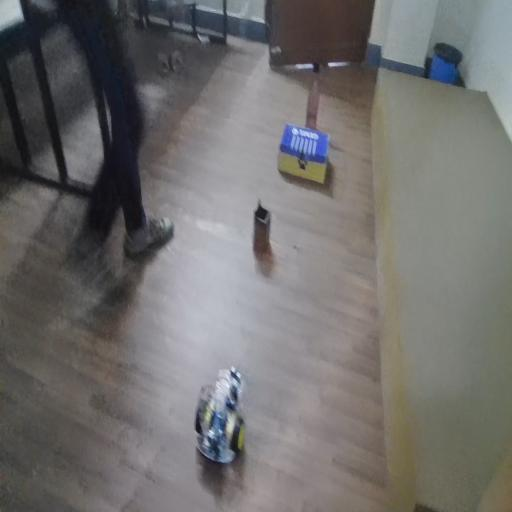Bottle: (309, 53, 331, 136)
car: (194, 362, 270, 483)
